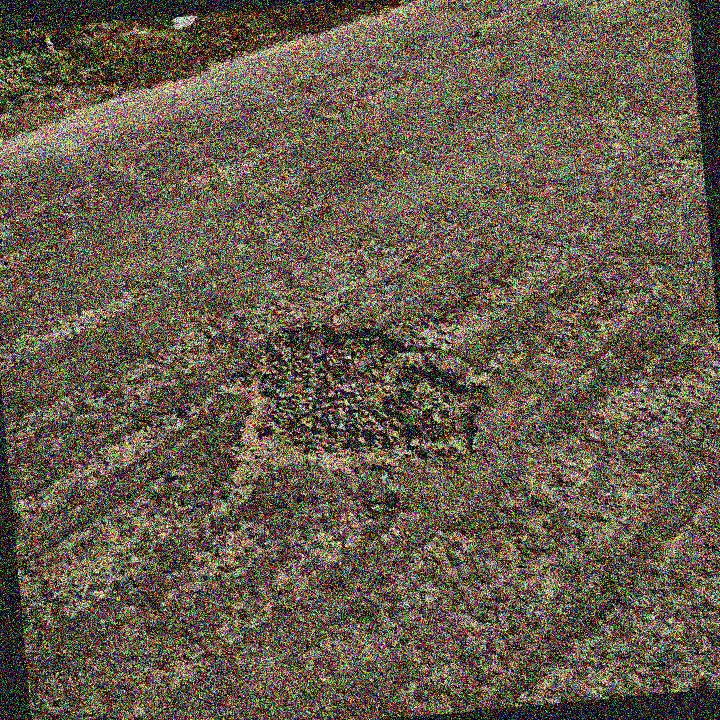pothole: (210, 305, 496, 486)
